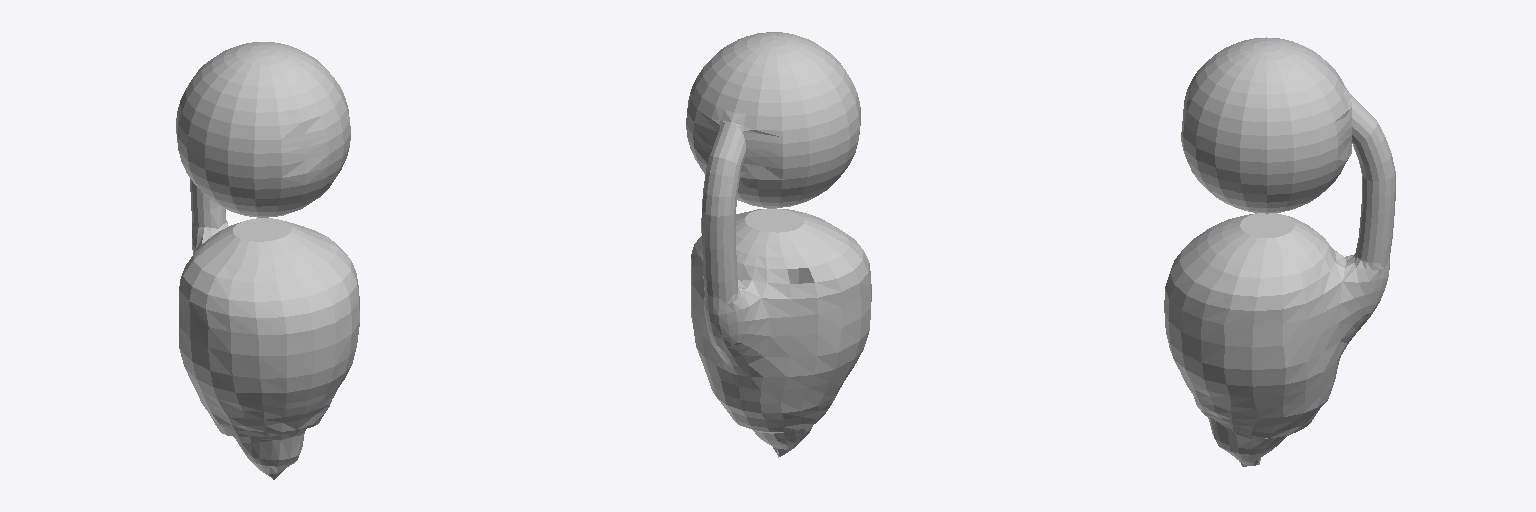
Rendered from top_robot1_outcast.obj.
The picture shows the model from 3 angles: view 1: azimuth 30°, elevation 25°; view 2: azimuth 150°, elevation 25°; view 3: azimuth 270°, elevation 25°; orthographic projection.
Parts seen in each view (by area): view 1: polySurface1; view 2: polySurface1; view 3: polySurface1.
Part boxes in pixels (x1,y1,x2,y2): polySurface1: (176,42,359,479); polySurface1: (686,32,871,457); polySurface1: (1164,37,1395,466).
Size of the model in its own units: 2.6 by 6.58 by 3.28.